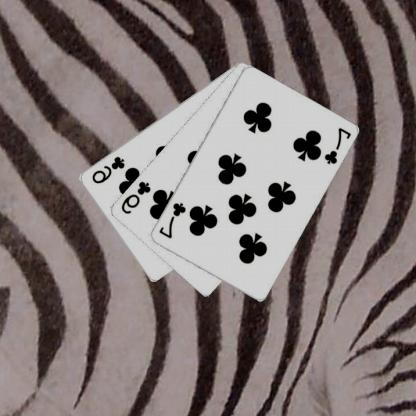6C: (120, 178, 153, 216)
7C: (157, 200, 189, 240), (323, 125, 354, 166)
9C: (90, 154, 127, 186)
